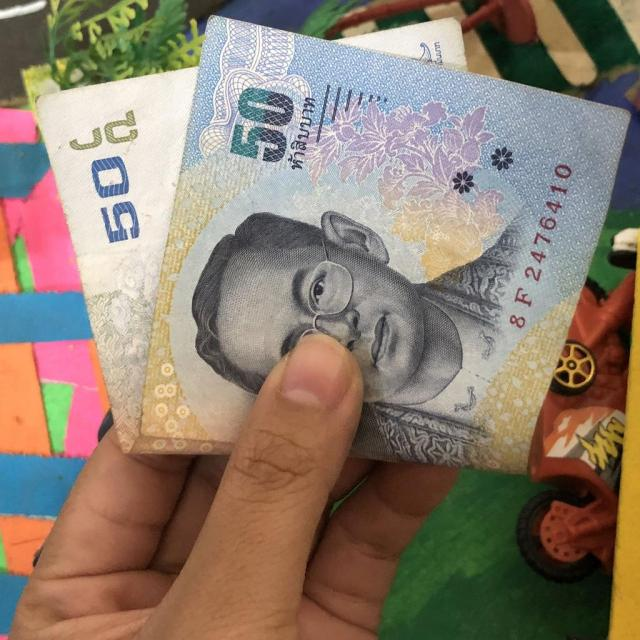THAI50: (36, 16, 629, 471)
